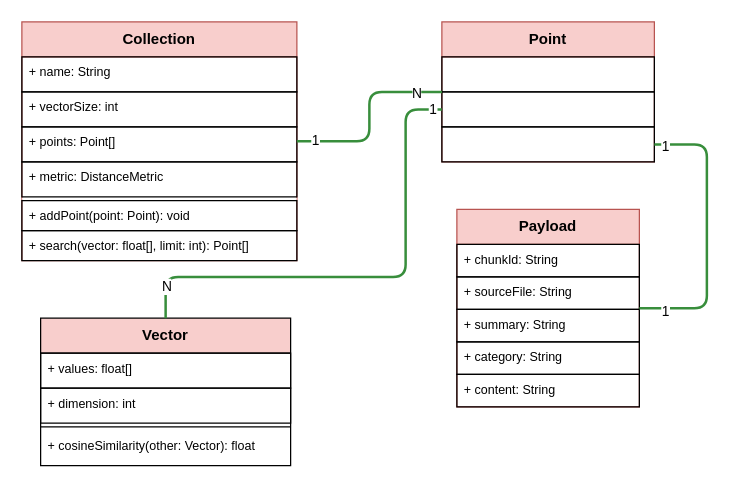
Some shapes in this 731 by 491 pixel diagram are drawn without their labels. Each missing label, with the centre of its shape:
"+ embeddings: Vector[]" belongs at [547,109].
"+ id: String" belongs at [547,74].
"+ payload: Payload" belongs at [547,144].
